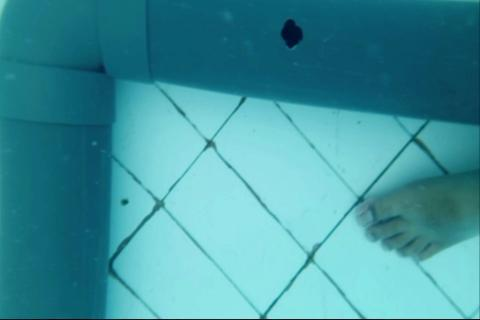kebocoran: (278, 17, 304, 51)
